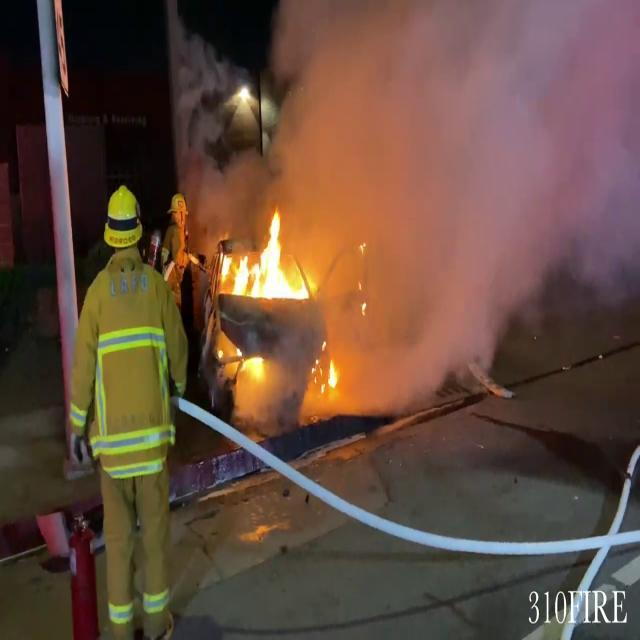Fire: (220, 208, 314, 306)
Smoke: (257, 0, 640, 381)
